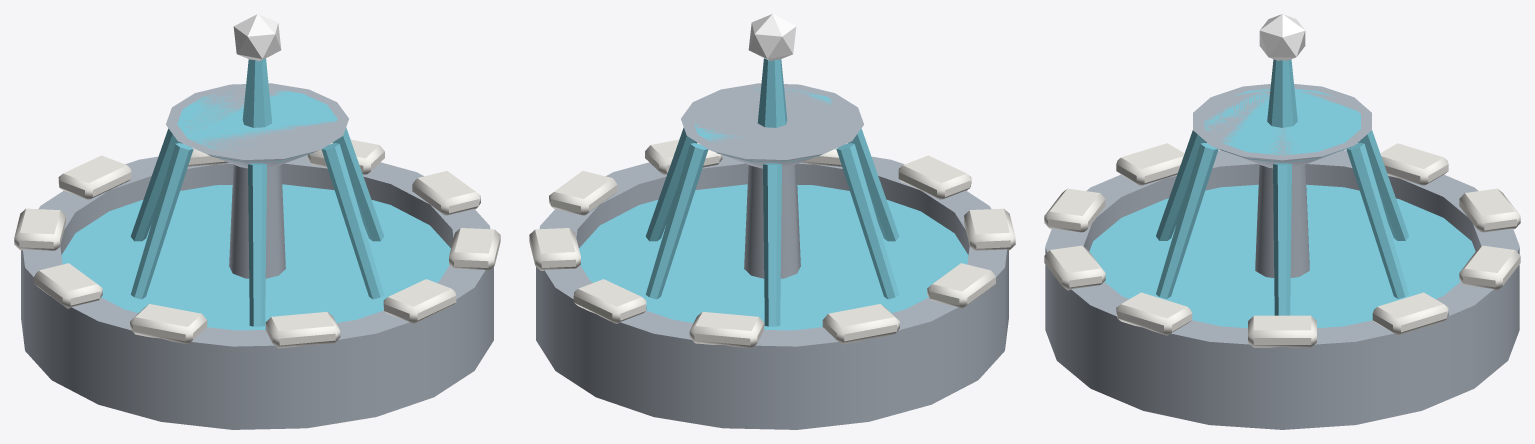
Rendered from home_fountain.fbx.
3 views of the same model, side by side, from view 1: azimuth 30°, elevation 25°; view 2: azimuth 150°, elevation 25°; view 3: azimuth 270°, elevation 25° (orthographic).
Parts seen in each view (by area): view 1: home_fountain; view 2: home_fountain; view 3: home_fountain.
Boxes of the visible parts, x1,y1,x2,y2 form: home_fountain: (14, 14, 500, 429); home_fountain: (529, 14, 1015, 429); home_fountain: (1044, 14, 1520, 429).
Size of the model in its own units: 1.26 by 0.91 by 1.24.
